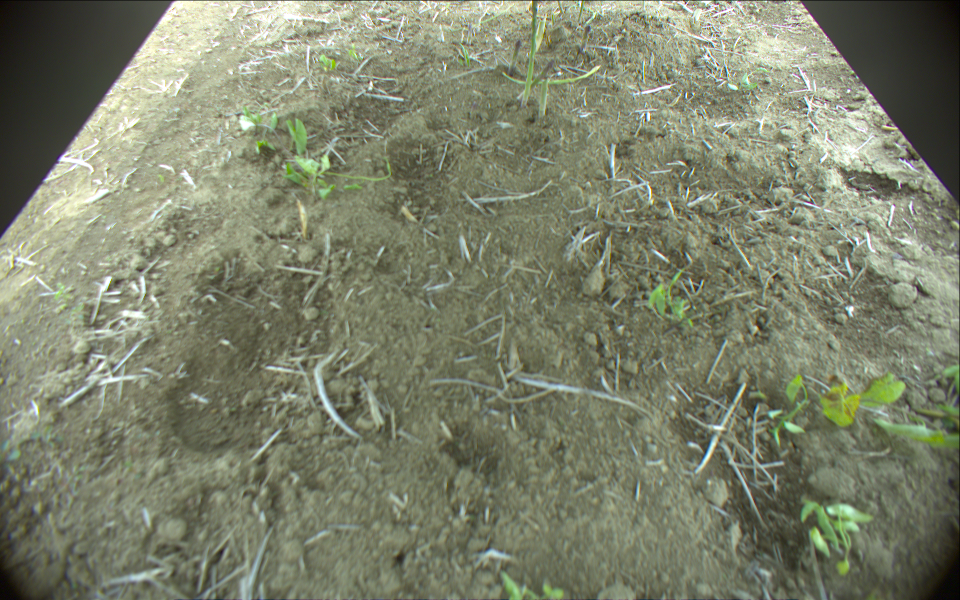aspa: (500, 65, 602, 87), (521, 1, 540, 110), (508, 39, 521, 76), (579, 26, 593, 53), (541, 76, 549, 112), (579, 1, 584, 22), (557, 1, 563, 16)
